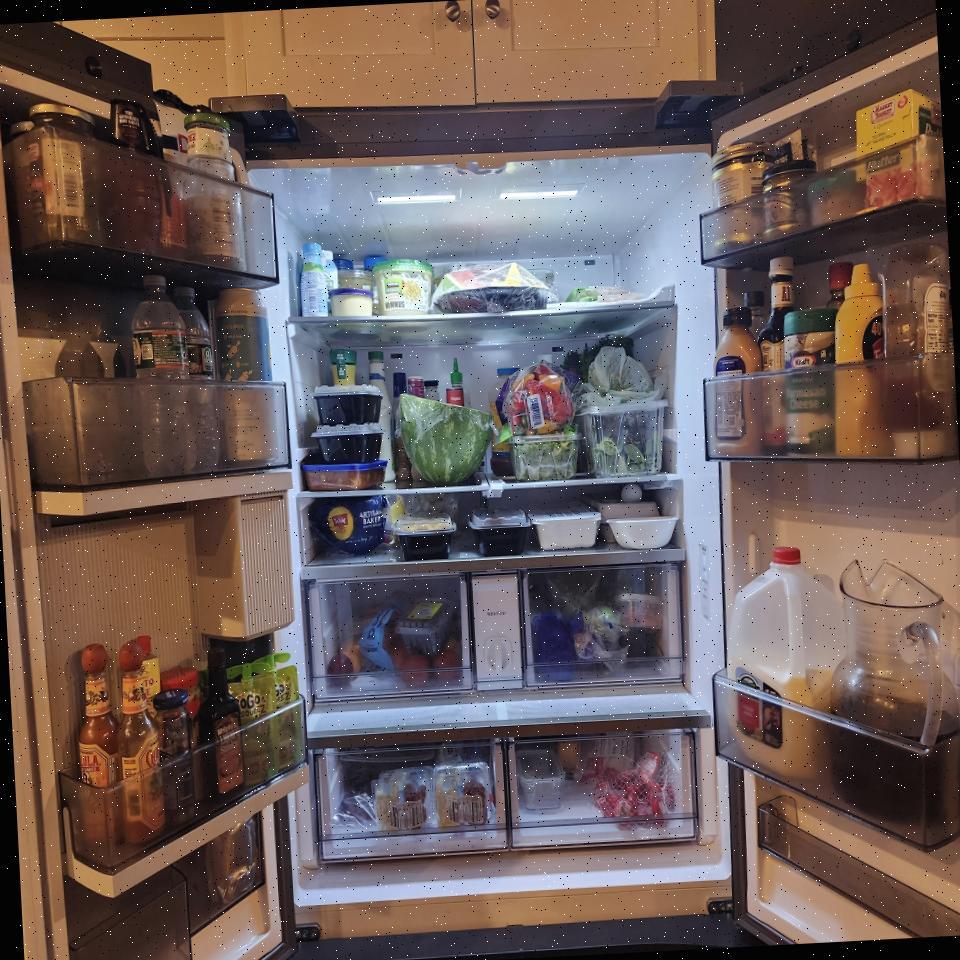Huevos: (582, 482, 666, 545)
Leche: (720, 543, 853, 784)
Tomate: (433, 650, 463, 686), (400, 654, 431, 688)
